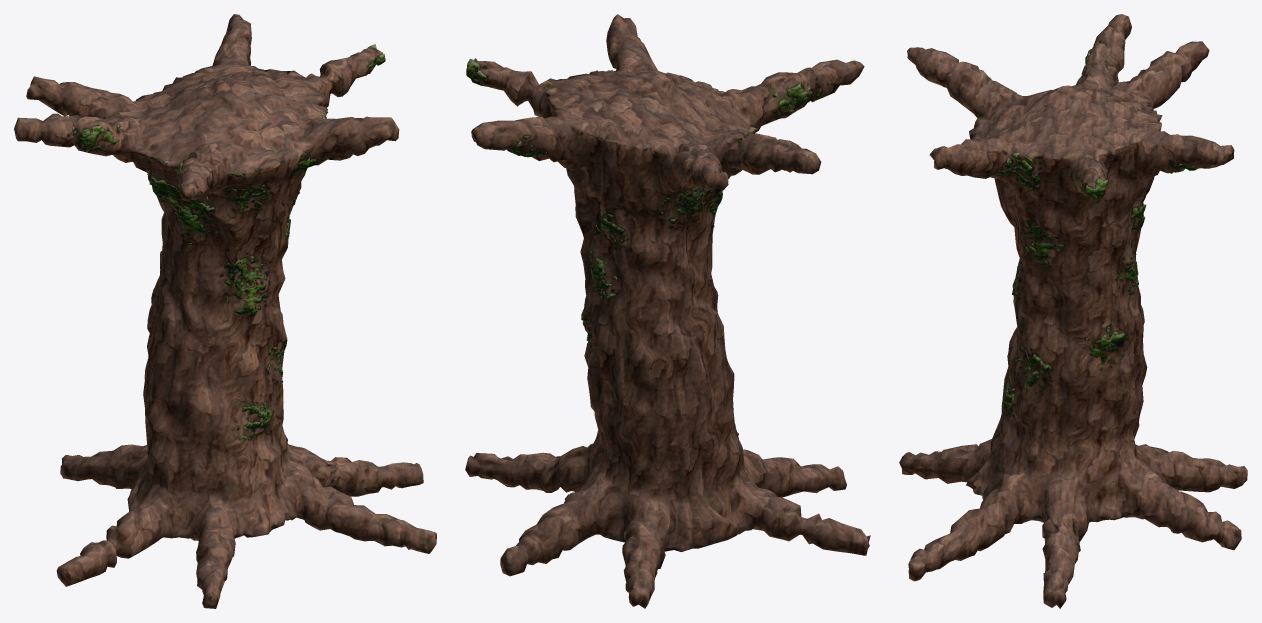
The model's file is rtree_b2.glb.
3 renders of one model, left to right at view 1: azimuth 30°, elevation 25°; view 2: azimuth 150°, elevation 25°; view 3: azimuth 270°, elevation 25°, orthographic. The views are drawn at different scales.
Visible parts, largest first — view 1: bark, moss; view 2: bark, moss; view 3: bark, moss.
Part boxes in pixels (x1,y1,x2,y2): bark: (14,14,436,608); moss: (70,44,385,440); bark: (465,14,870,608); moss: (466,58,821,352); bark: (899,14,1247,608); moss: (979,41,1204,415).
Bounding box in the file's own units: 1.14 × 1.3 × 0.9294.
Materials: 2 (2 with a texture image).
